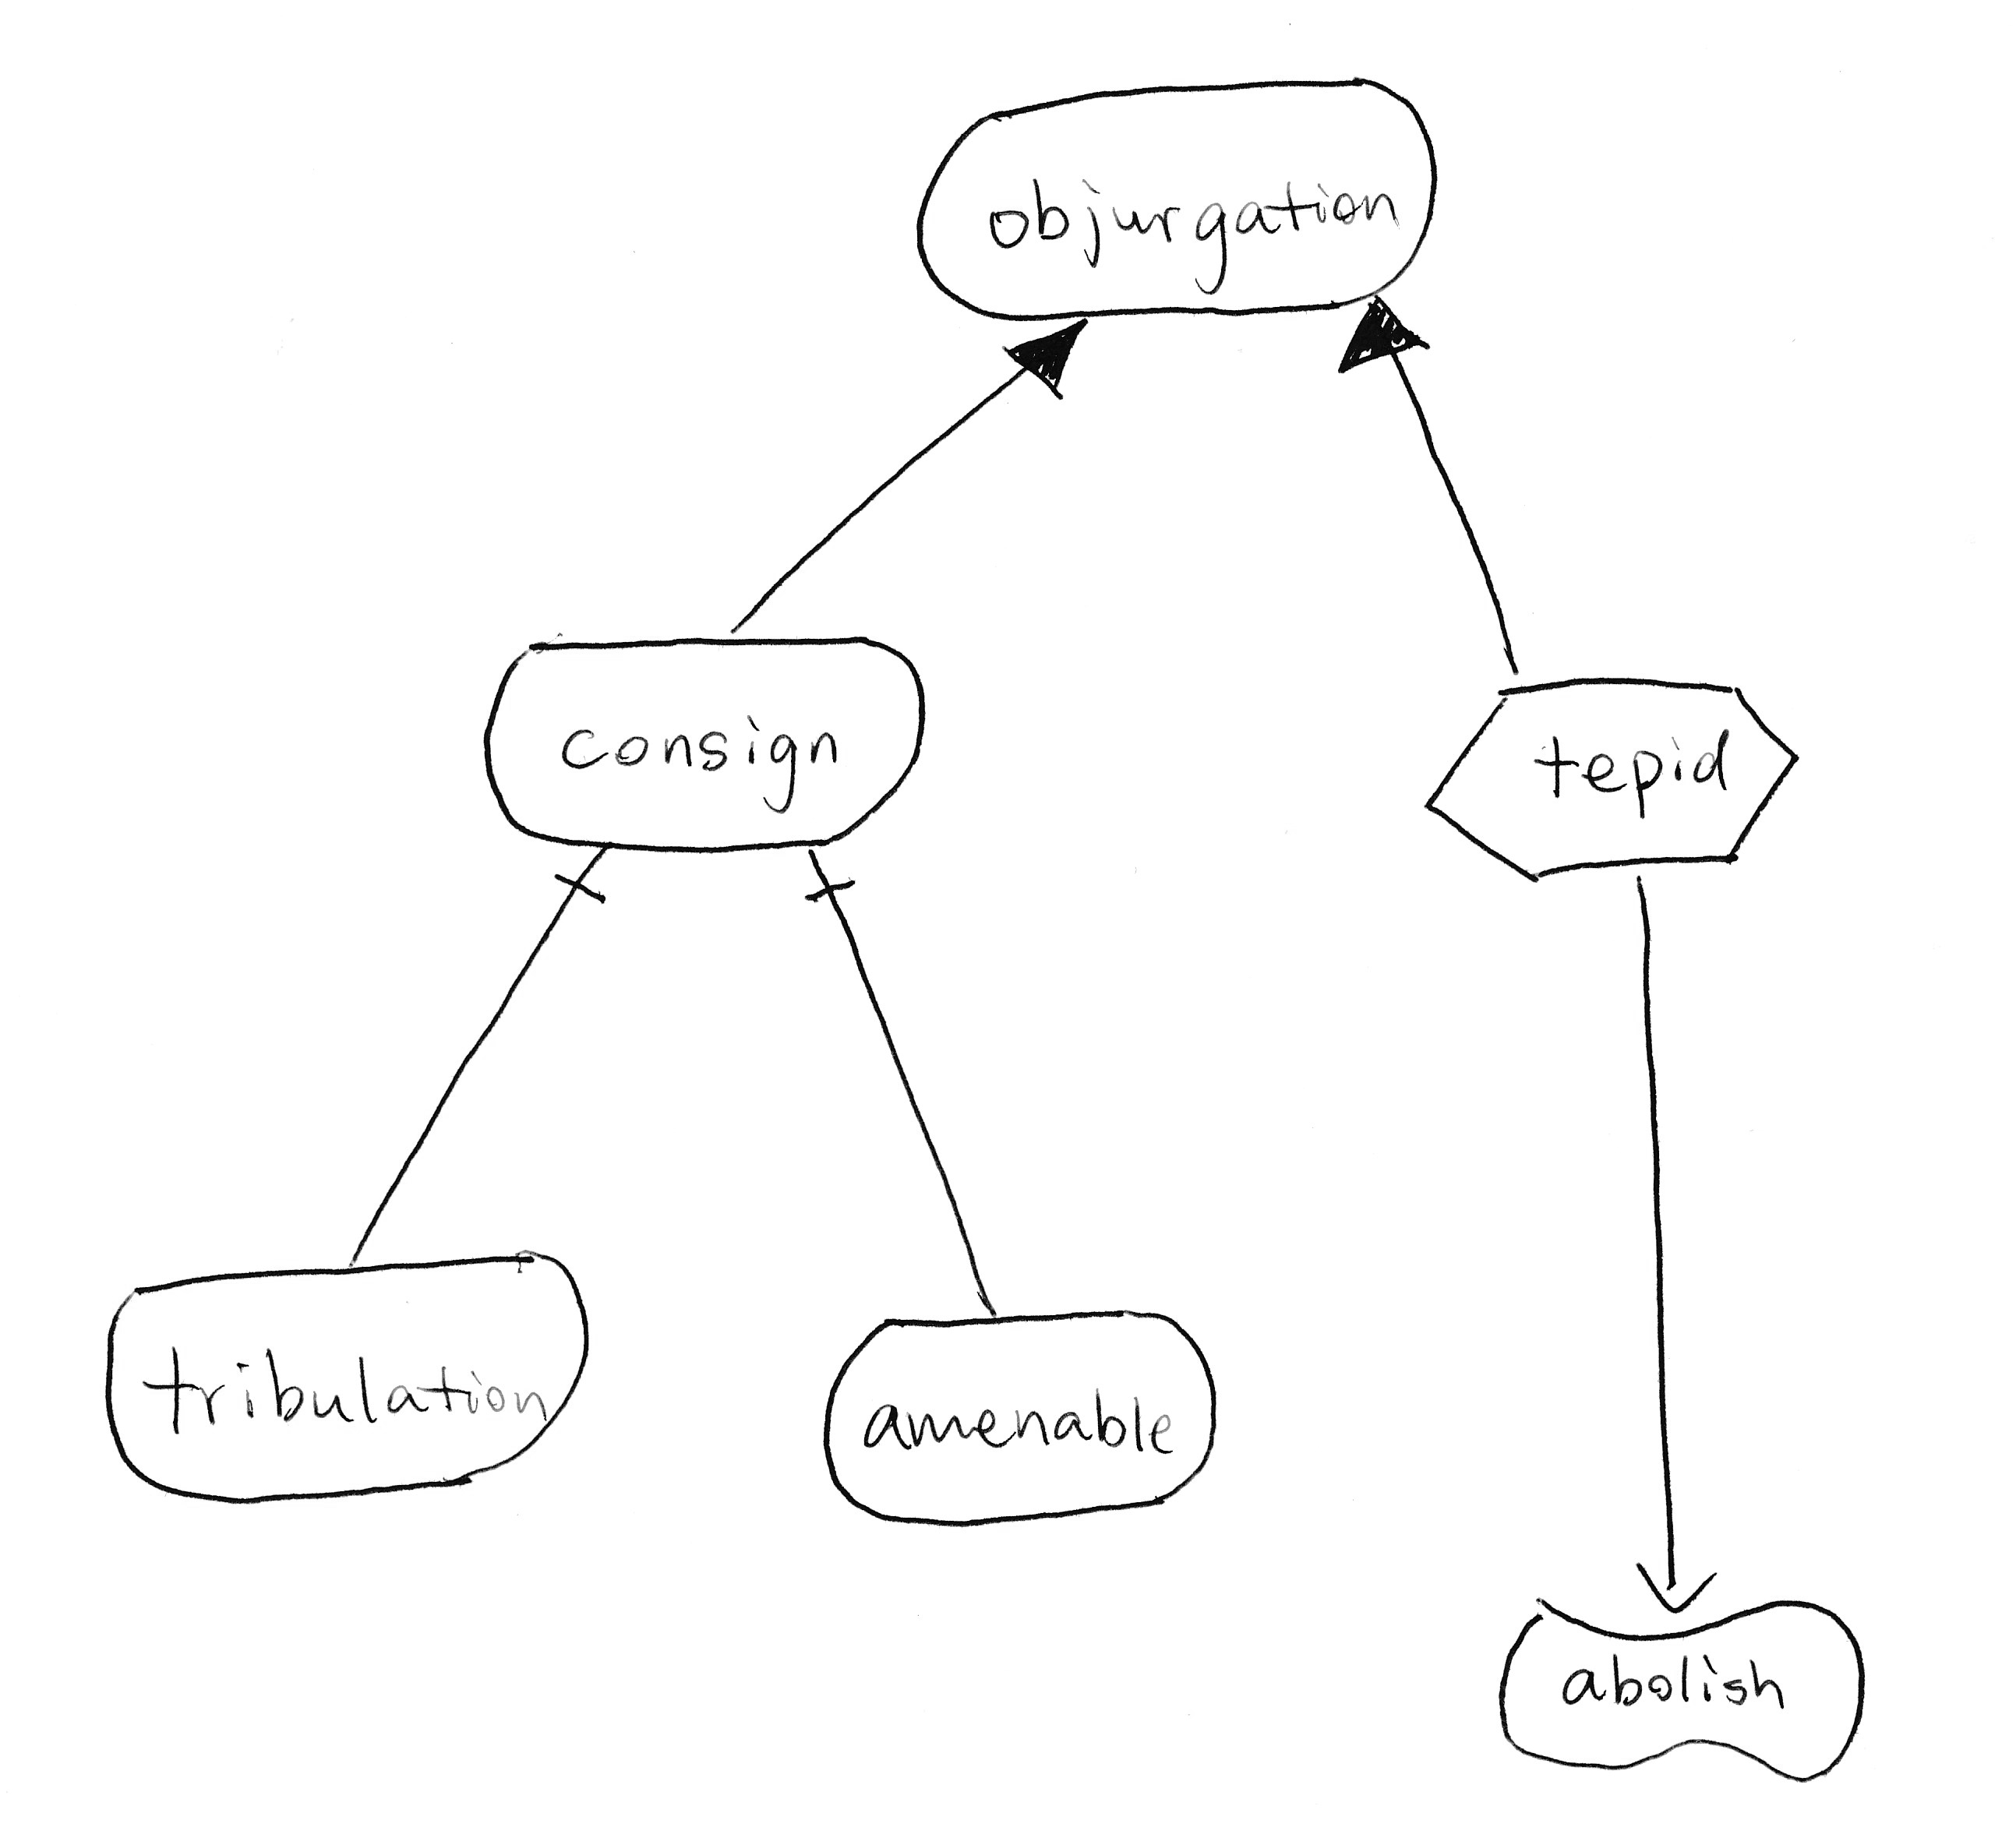and: (781, 825, 869, 925), (536, 834, 625, 925)
arrow: (1612, 1543, 1739, 1627)
goal: (903, 53, 1458, 348), (83, 1231, 609, 1520), (462, 607, 945, 869), (799, 1289, 1242, 1548)
or: (1326, 281, 1442, 384), (989, 307, 1103, 409)
quality: (1475, 1578, 1890, 1799)
task: (1412, 655, 1814, 897)
